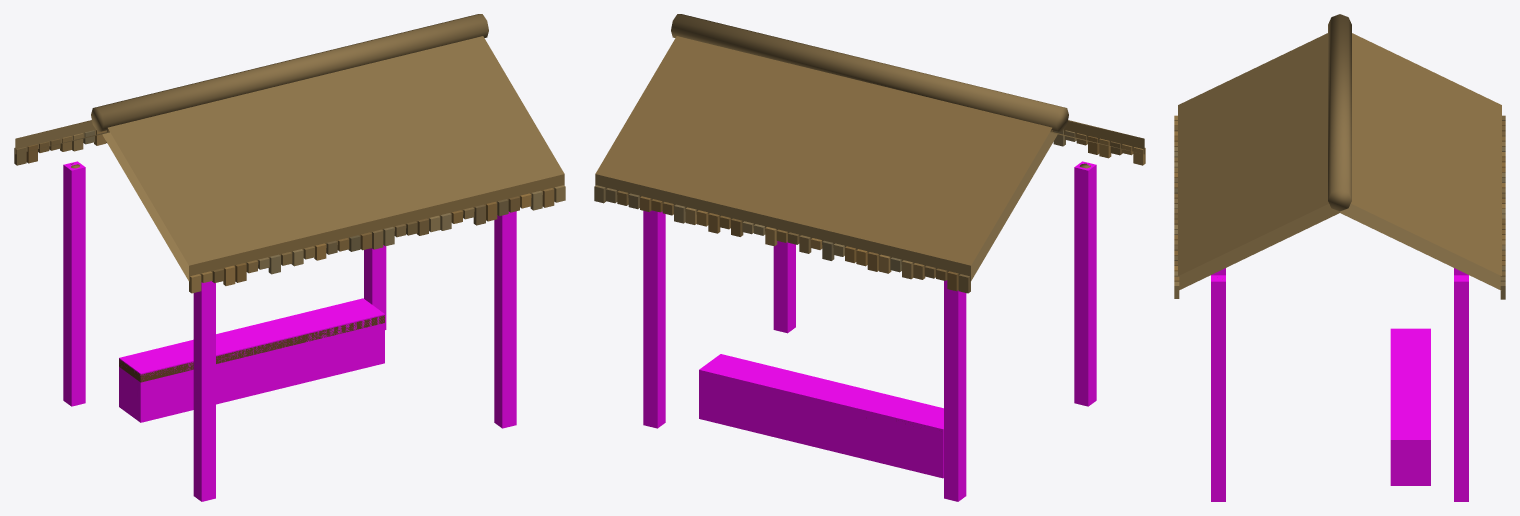
File: PRP_Rain_Shelter_A.glb
The picture shows the model from 3 angles, left to right: view 1: azimuth 30°, elevation 25°; view 2: azimuth 150°, elevation 25°; view 3: azimuth 270°, elevation 25°; orthographic projection. The views are drawn at different scales.
Visible parts, largest first — view 1: PRP_Rain_Shelter_A_Roof, COL_Bench, COL_Post_-1_1, COL_Post_-1_-1, COL_Post_1_-1, PRP_Rain_Shelter_A_Mesh, COL_Post_1_1; view 2: PRP_Rain_Shelter_A_Roof, COL_Bench, COL_Post_-1_-1, COL_Post_1_1, COL_Post_-1_1, COL_Post_1_-1; view 3: PRP_Rain_Shelter_A_Roof, COL_Bench, COL_Post_1_1, COL_Post_1_-1.
Boxes of the visible parts, x1,y1,x2,y2 form: PRP_Rain_Shelter_A_Roof: [14, 14, 565, 293]; COL_Bench: [119, 298, 384, 422]; COL_Post_-1_1: [63, 161, 85, 406]; COL_Post_-1_-1: [193, 281, 215, 501]; COL_Post_1_-1: [494, 211, 516, 428]; PRP_Rain_Shelter_A_Mesh: [71, 163, 384, 382]; COL_Post_1_1: [364, 245, 386, 329]; PRP_Rain_Shelter_A_Roof: [594, 14, 1145, 293]; COL_Bench: [699, 354, 943, 478]; COL_Post_-1_-1: [1074, 161, 1096, 406]; COL_Post_1_1: [643, 210, 665, 428]; COL_Post_-1_1: [944, 280, 966, 501]; COL_Post_1_-1: [773, 241, 795, 333]; PRP_Rain_Shelter_A_Roof: [1174, 14, 1505, 299]; COL_Bench: [1390, 328, 1430, 485]; COL_Post_1_1: [1454, 275, 1468, 501]; COL_Post_1_-1: [1211, 275, 1225, 501].
Bounding box in the file's own units: 4.1 × 3.58 × 3.27.
